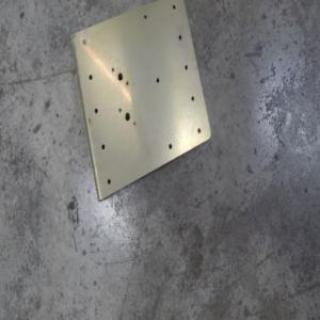MetalSheettrack_idkeyframe: (67, 0, 212, 206)
